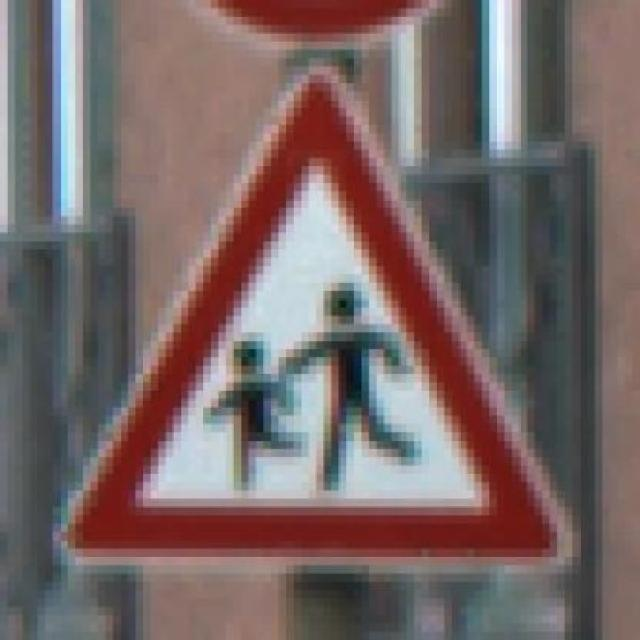Beware of children: (37, 75, 588, 573)
